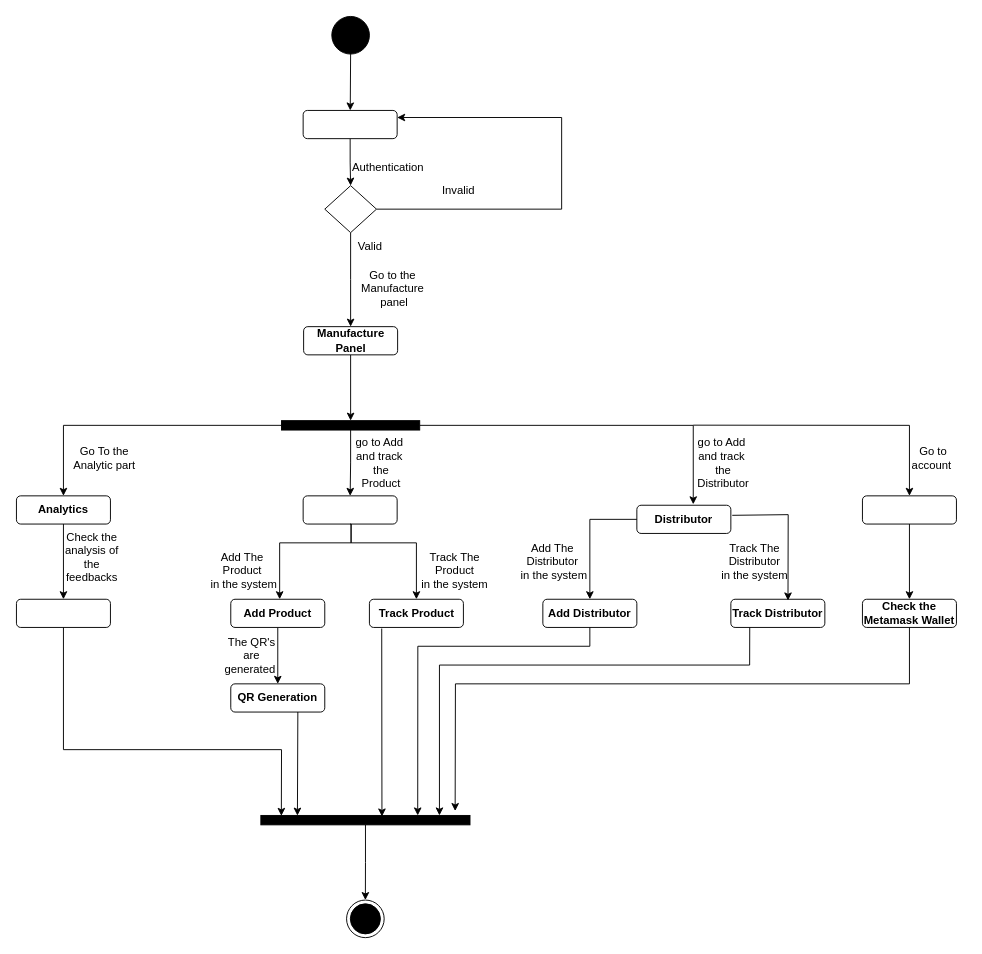
The diagram is 982 pixels wide and 954 high, and some of its shapes have lost their labels. Here are the shapes that lost their labels. From the top down, the centre of each, then its label:
At point (349, 124): "Connect to the Metamask".
At point (349, 509): "Products".
At point (909, 509): "Account Connection".
At point (63, 612): "Feed Back Information".
